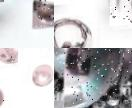ironball: (54, 48, 122, 106), (54, 12, 98, 48), (30, 59, 54, 89), (33, 0, 54, 30), (109, 0, 131, 27), (120, 64, 132, 106), (0, 48, 21, 67), (102, 96, 119, 107), (0, 85, 8, 107)
